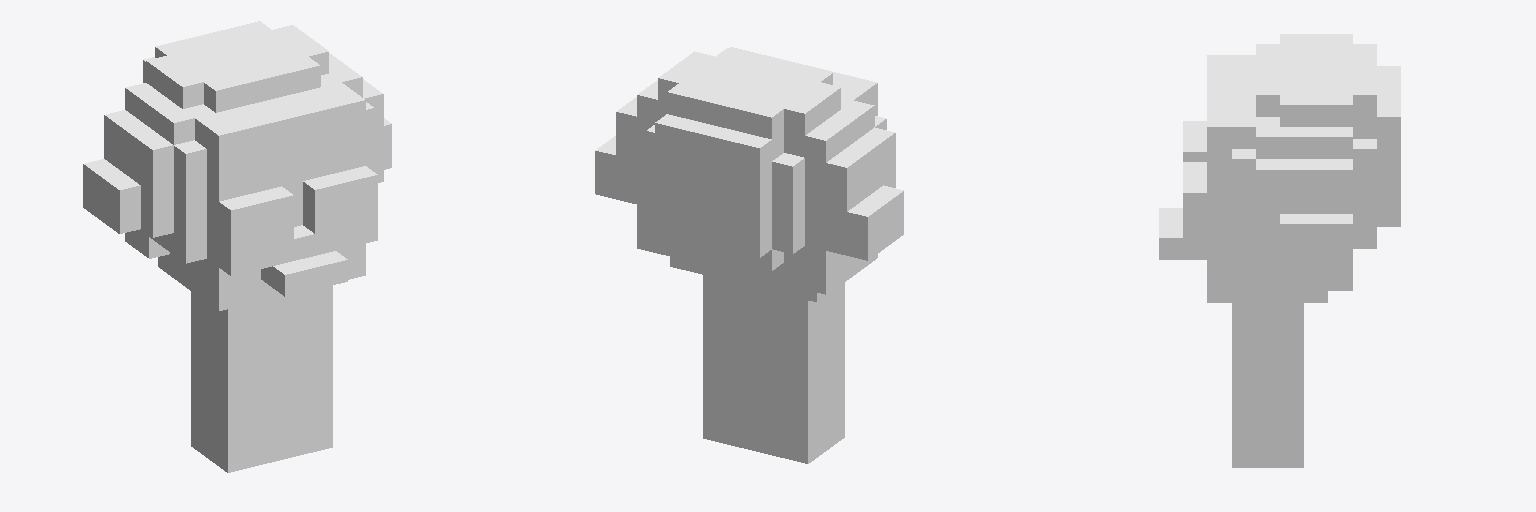
Rendered from velha_main.obj.
3 renders of one model, left to right at view 1: azimuth 30°, elevation 25°; view 2: azimuth 150°, elevation 25°; view 3: azimuth 270°, elevation 25°, orthographic.
Visible parts, largest first — view 1: velha_main; view 2: velha_main; view 3: velha_main.
Part boxes in pixels (left/top/right/bottom): velha_main: left=83, top=21, right=391, bottom=472; velha_main: left=595, top=47, right=903, bottom=463; velha_main: left=1159, top=34, right=1400, bottom=467.
Size of the model in its own units: 13 by 17 by 10.